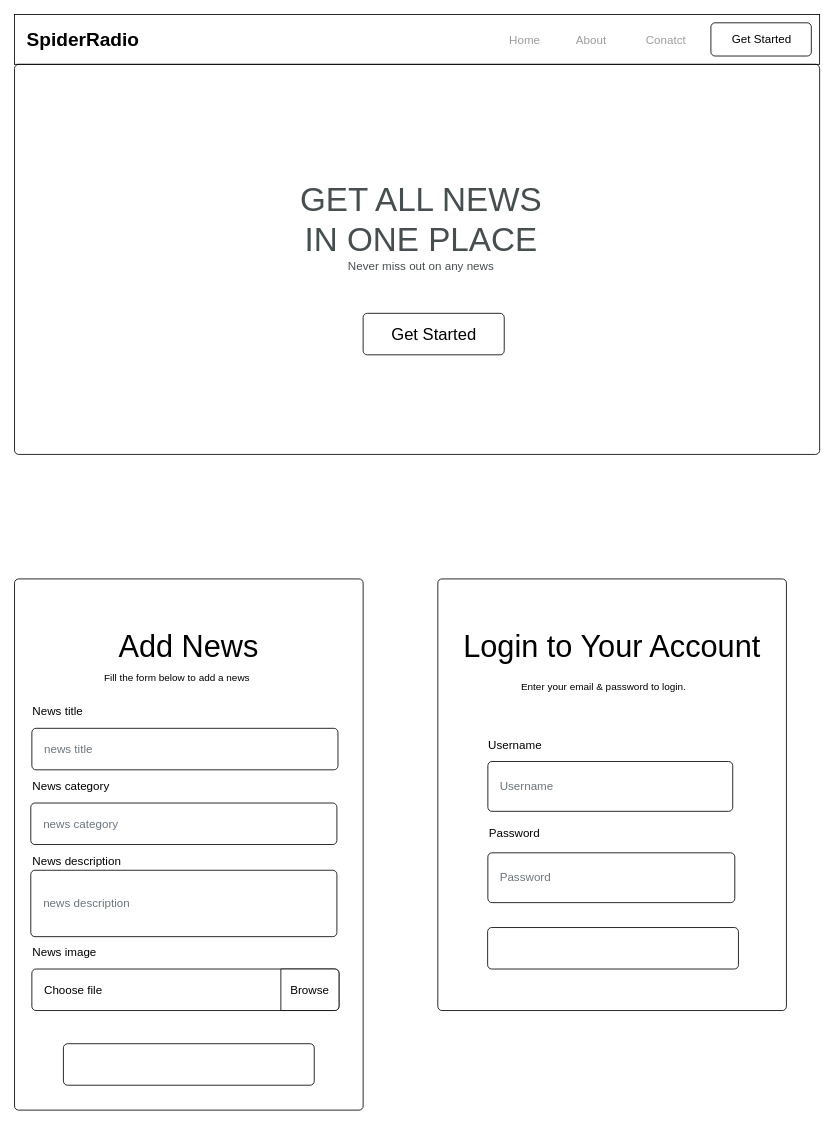
Image size: 834x1125. Some labels were removed from this diagram. Here are the shapes that lost their labels. From the top down, the centre of each, then its label:
At [612,948]: "Login".
At [188,1064]: "Save".
